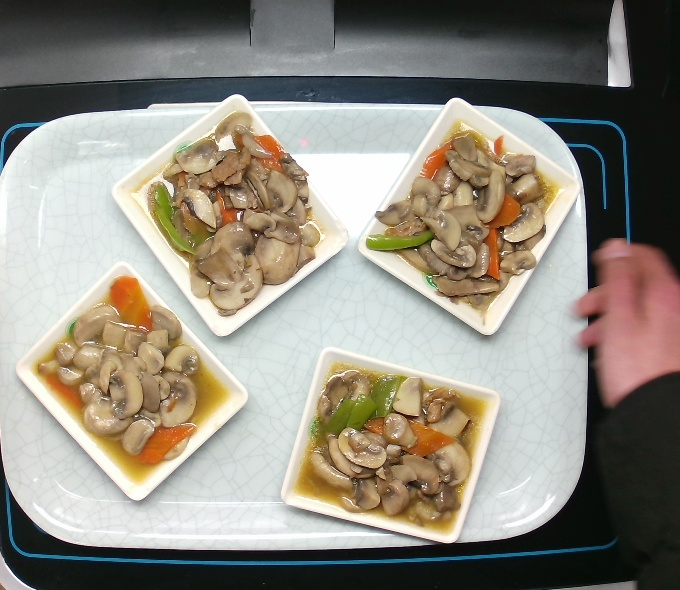wcq-HouTouGuChaoRou: (125, 107, 335, 326), (27, 282, 232, 480), (369, 126, 569, 315), (295, 359, 486, 534)
